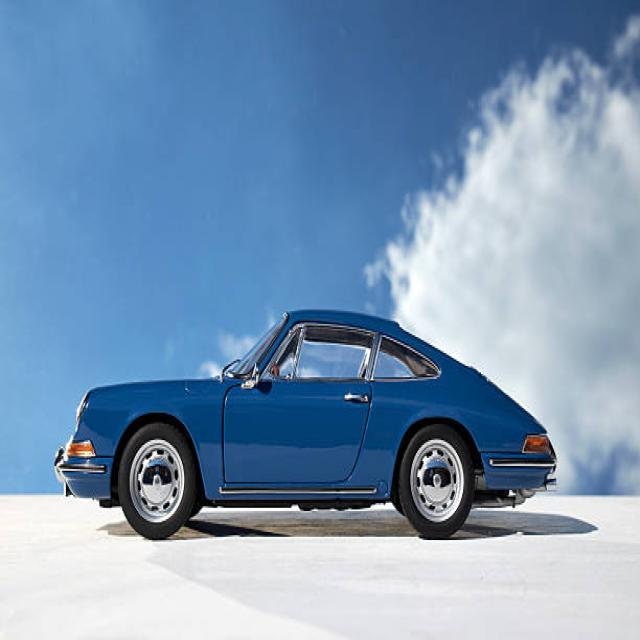Car: (54, 306, 558, 540)
